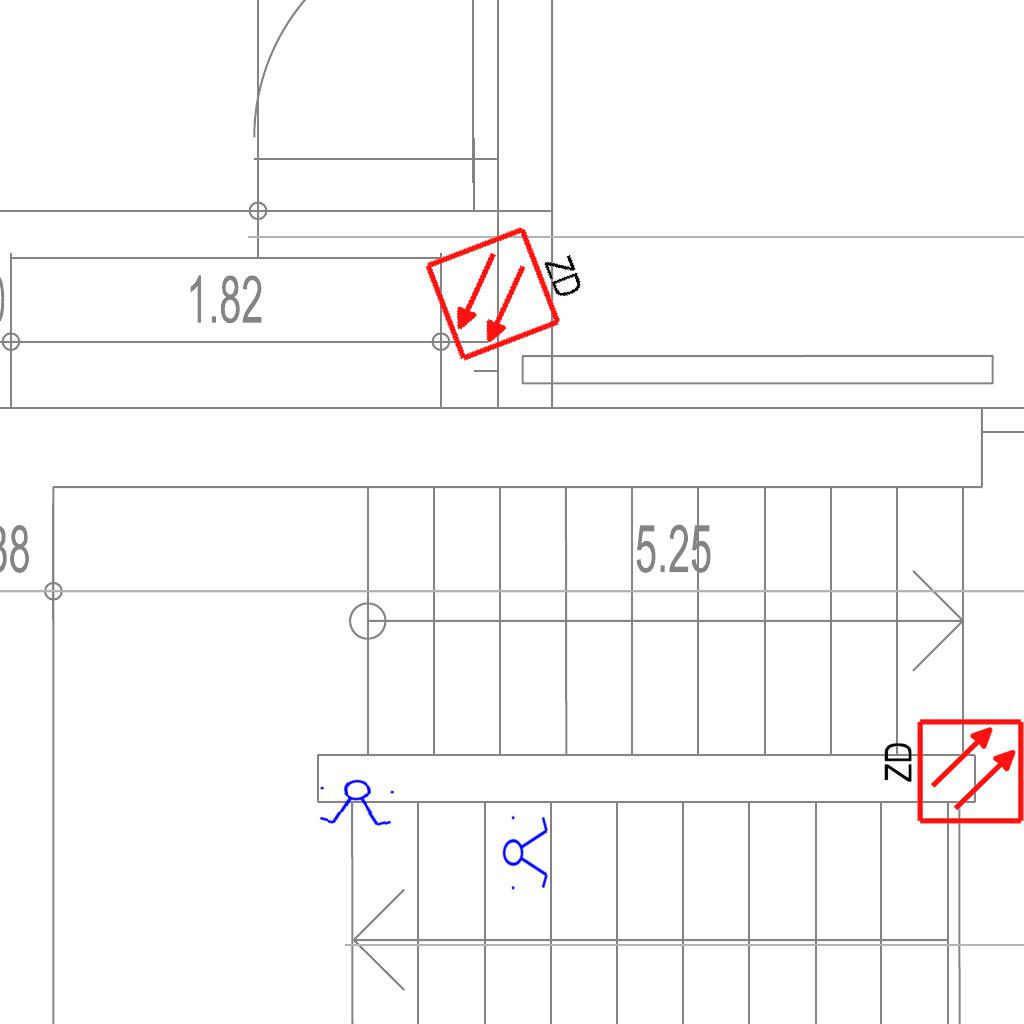Serienschalter: (313, 776, 401, 830), (502, 810, 550, 894)
ZD_Melder_in_Zwischendecke_mit_Revisionsoeffnung_mind_40_x_40_cm: (420, 205, 600, 366), (877, 716, 1024, 830)
